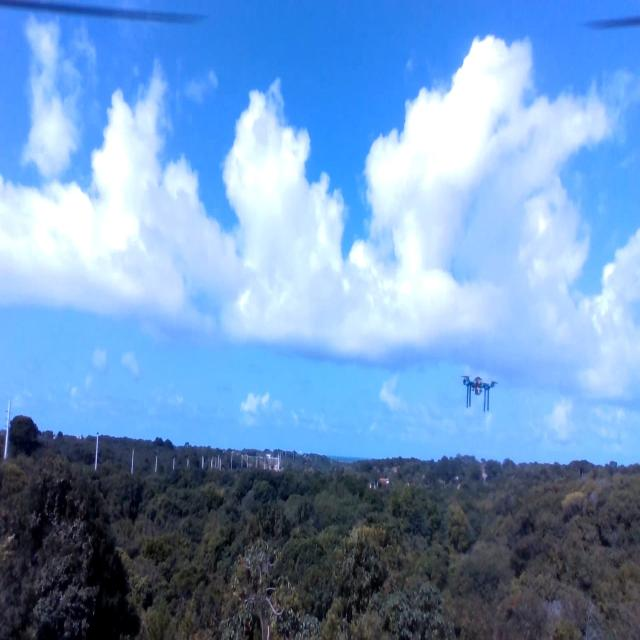-uav-: (449, 350, 503, 425)
